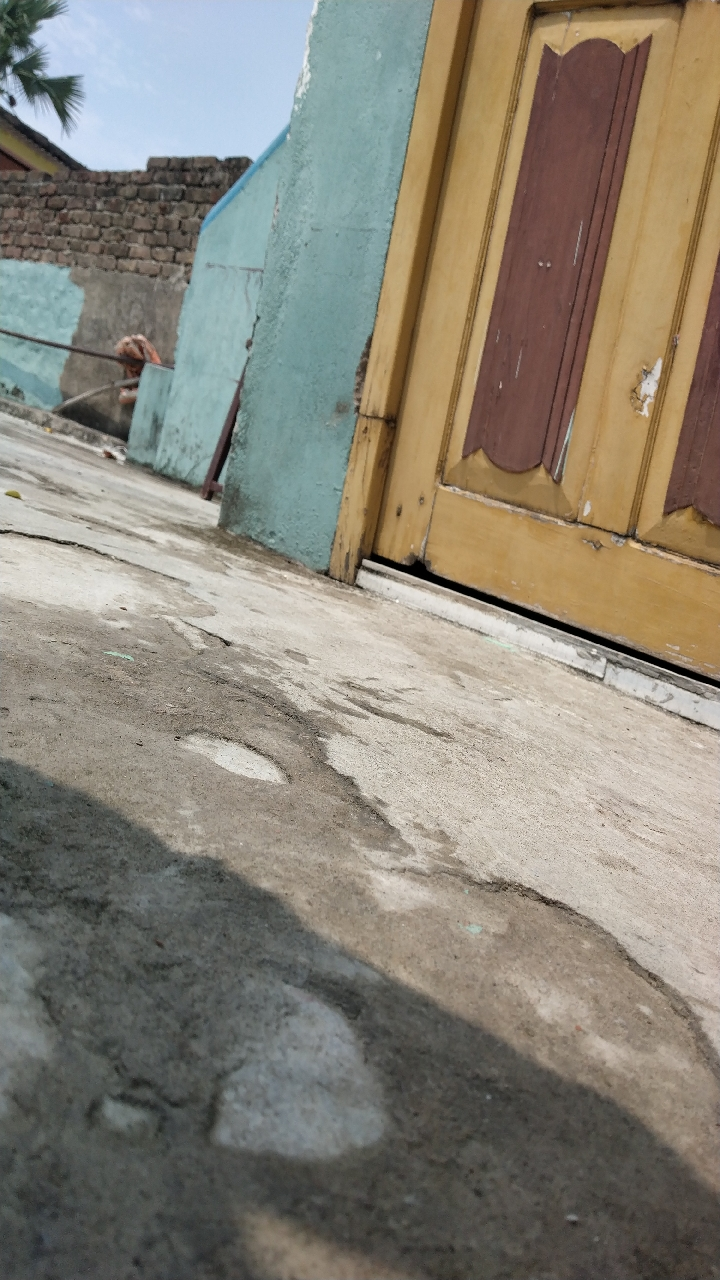Doors: (356, 94, 720, 681)
